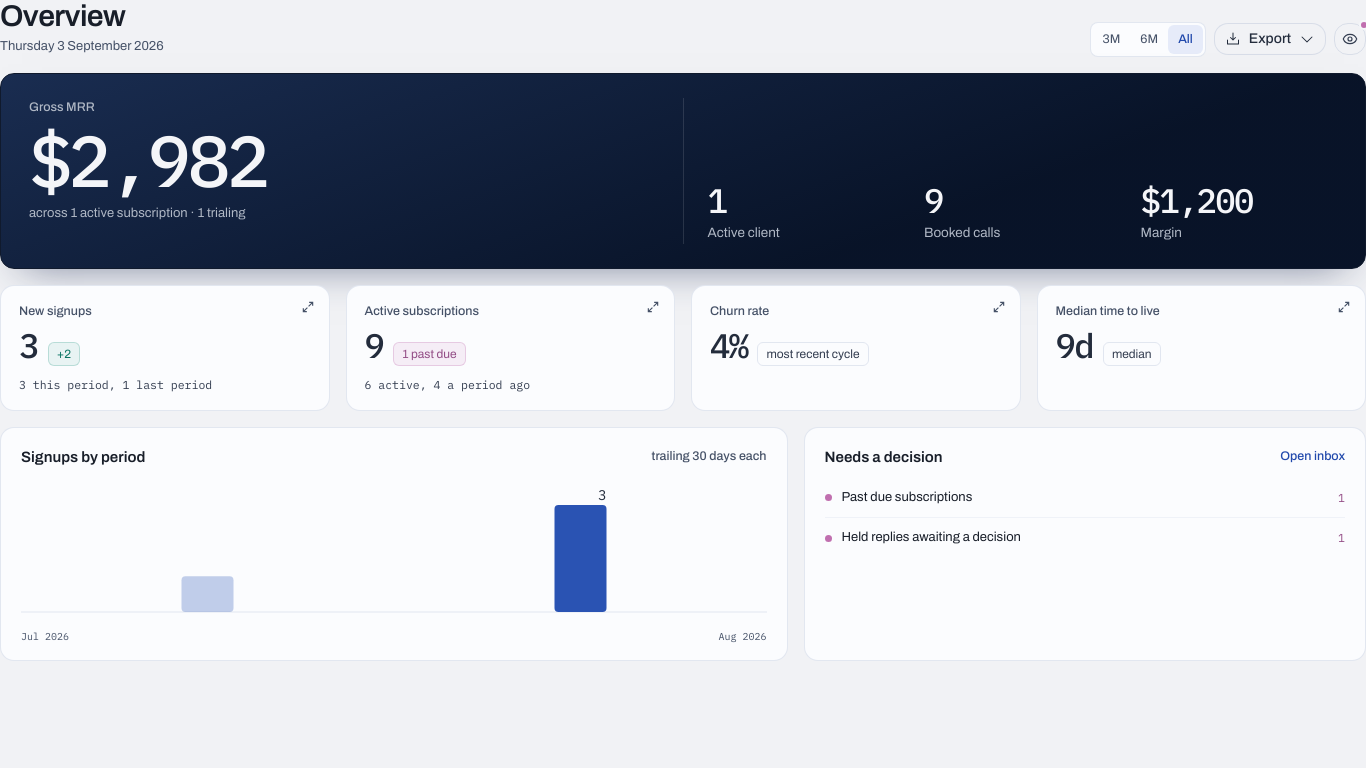
Scenario: OwnerOverview › opens the figures dialog from a card's expand control
Click the button named "Expand New signups": (308, 306) top-left (300, 300), bottom-right (314, 314)
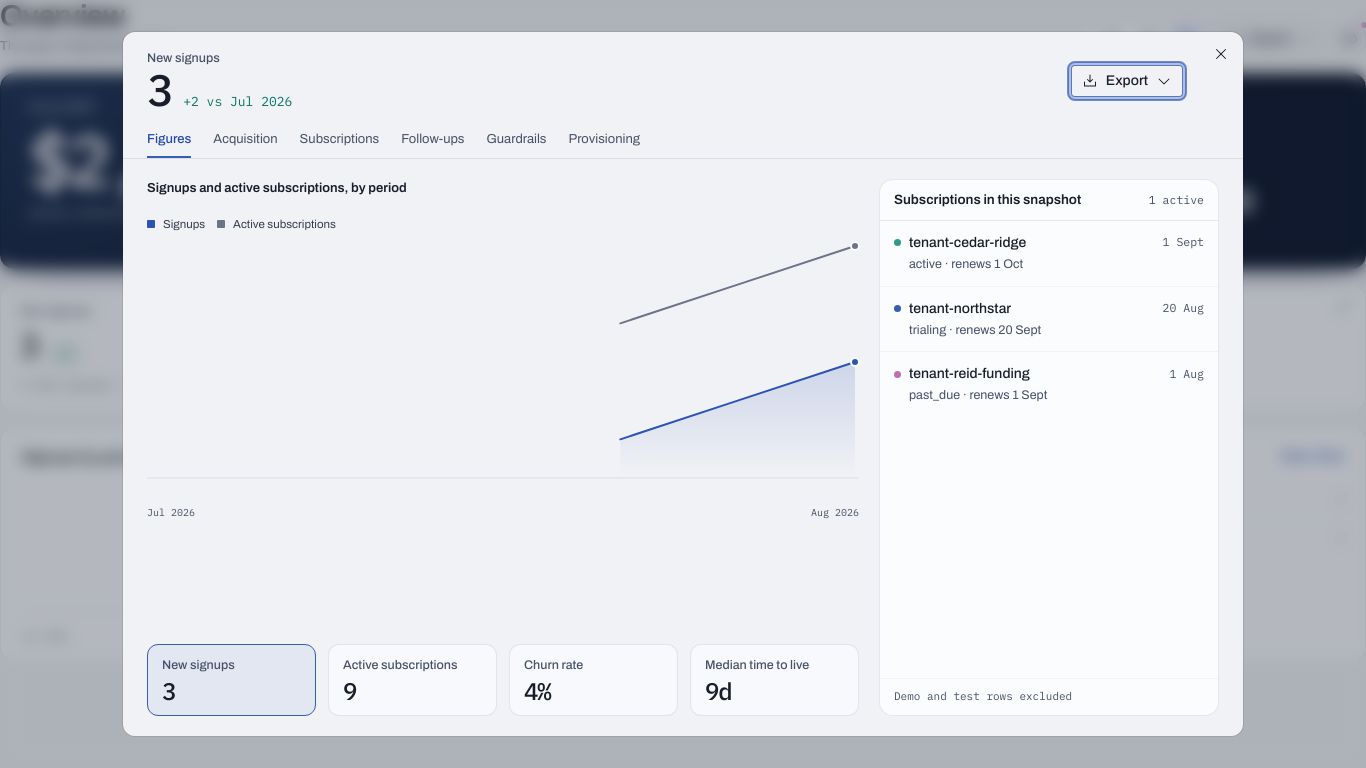
Expected: the dialog is shown
Expected: the heading "Signups and active subscriptions, by period" is shown, top-left (147, 179), bottom-right (407, 198)
Expected: the heading "Subscriptions in this snapshot" is shown, top-left (894, 190), bottom-right (1081, 210)
